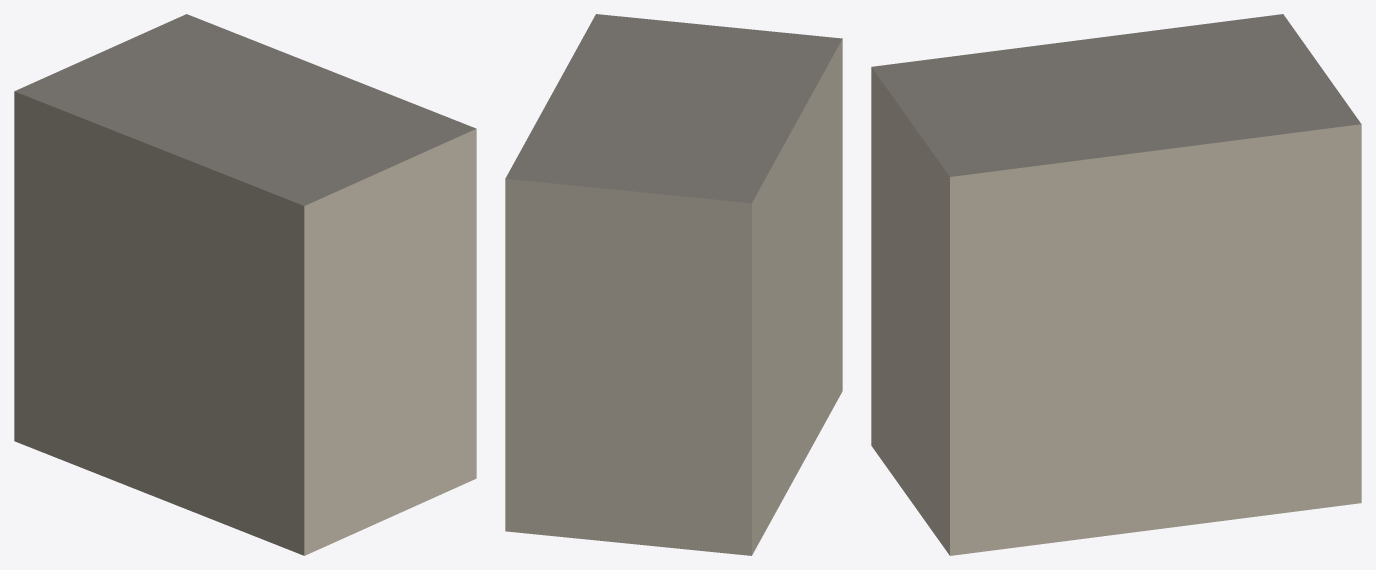
3 renders of one model, left to right at view 1: azimuth 30°, elevation 25°; view 2: azimuth 150°, elevation 25°; view 3: azimuth 270°, elevation 25°, orthographic. The views are drawn at different scales.
Parts seen in each view (by area): view 1: HP-w446934932; view 2: HP-w446934932; view 3: HP-w446934932.
Boxes of the visible parts, bbox=[...] form: HP-w446934932: bbox=[14, 14, 476, 555]; HP-w446934932: bbox=[505, 14, 842, 555]; HP-w446934932: bbox=[871, 14, 1361, 555].
Size of the model in its own units: 16.61 by 18 by 21.1.
